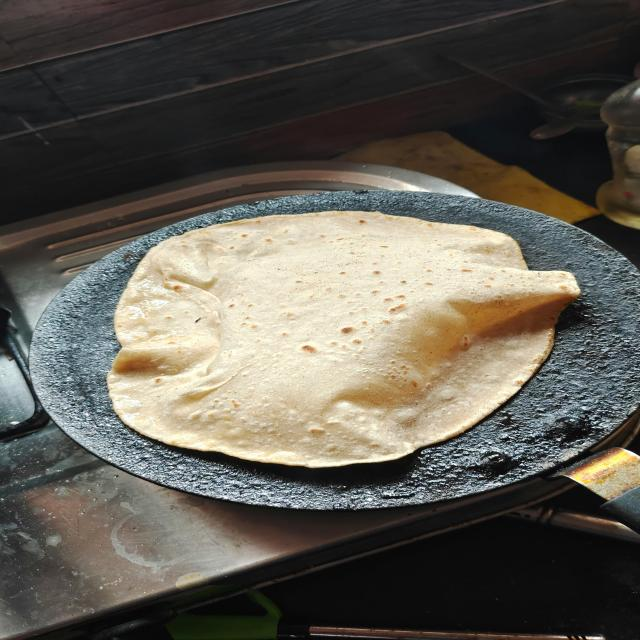ROTI: (105, 211, 561, 460)
